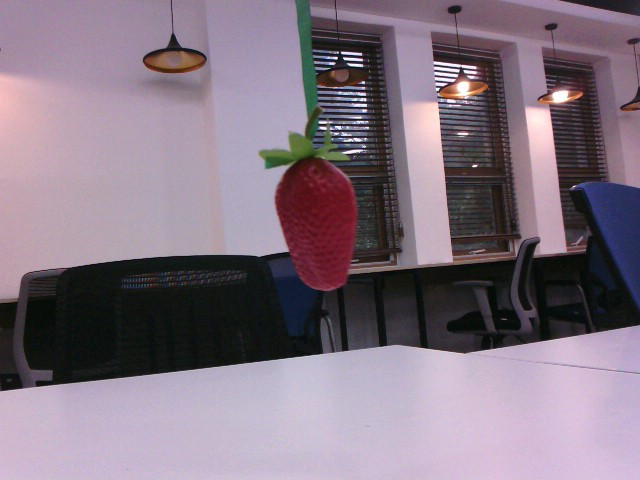strawberry: (264, 144, 367, 294)
